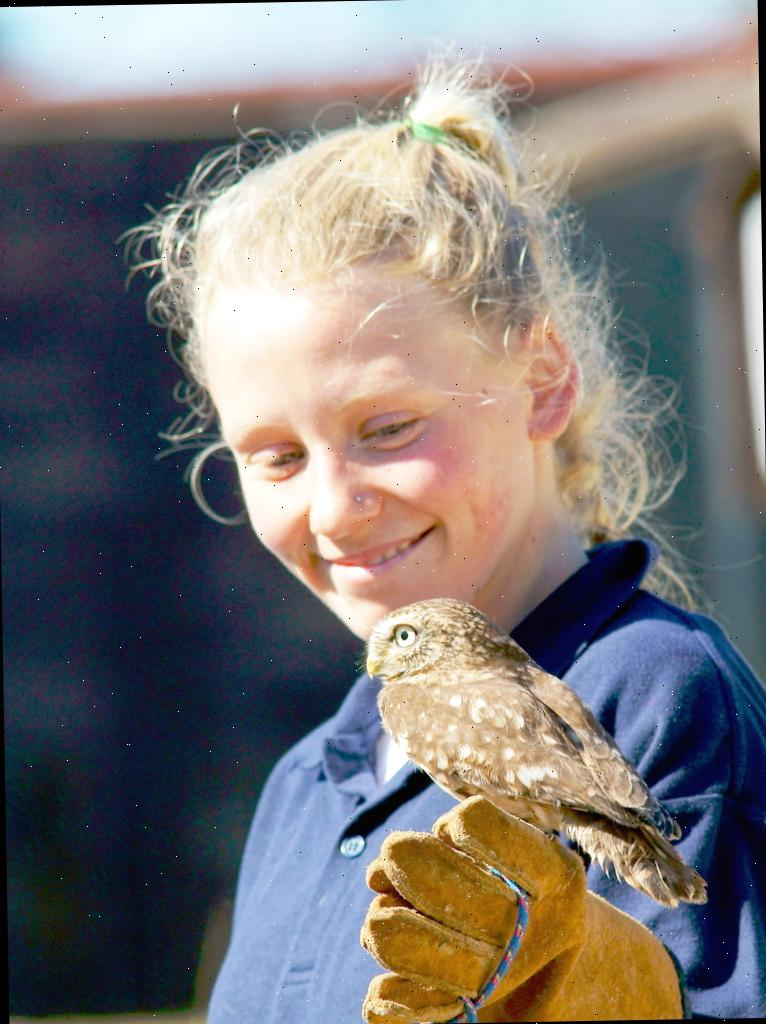Owl: (367, 590, 709, 909)
